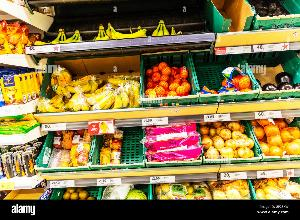apple: (96, 126, 142, 169), (46, 130, 94, 168)
banana: (34, 7, 188, 47), (44, 61, 140, 113)
eggplant: (254, 54, 300, 92)
onion: (202, 122, 252, 160), (255, 118, 300, 160)
orange: (191, 54, 251, 106), (138, 51, 194, 105)
